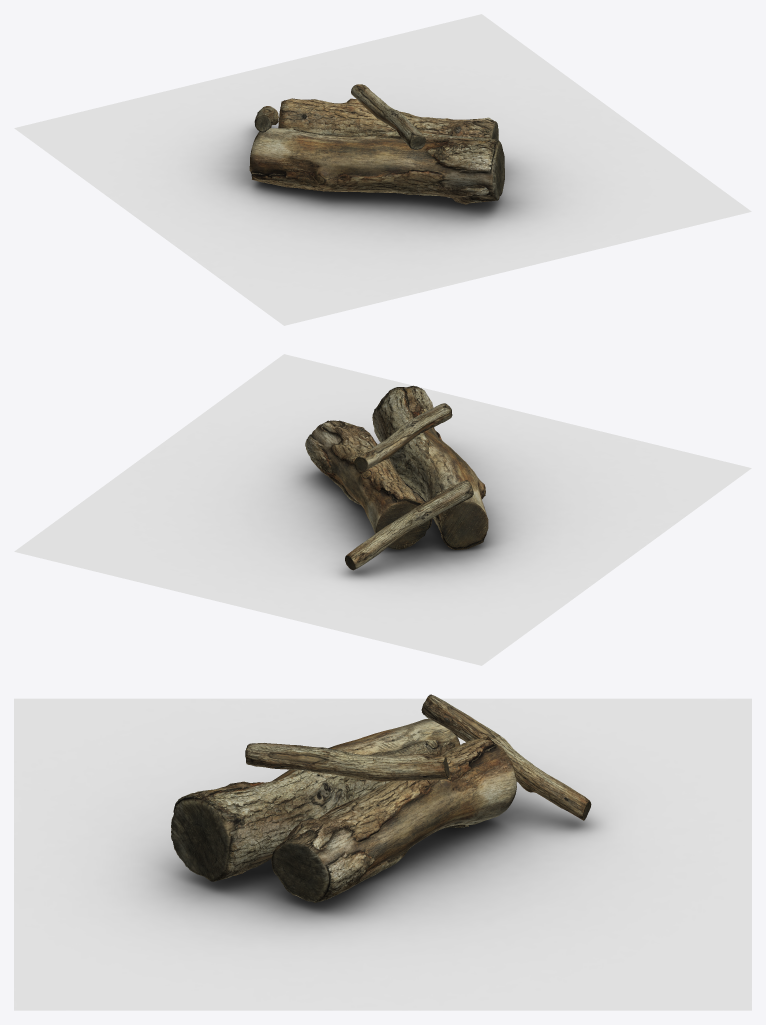
Rendered from logs.glb.
3 views of the same model, one above another, from view 1: azimuth 30°, elevation 25°; view 2: azimuth 150°, elevation 25°; view 3: azimuth 270°, elevation 25° (orthographic). The views are drawn at different scales.
Parts seen in each view (by area): view 1: Plane.001, log_big_right, log_big_left, log_small_1; view 2: Plane.001, log_big_right, log_big_left, log_small_2, log_small_1; view 3: Plane.001, log_big_left, log_big_right, log_small_1, log_small_2.
Boxes of the visible parts, x1,y1,x2,y2 form: Plane.001: [14, 14, 751, 325]; log_big_right: [249, 127, 504, 204]; log_big_left: [278, 98, 498, 139]; log_small_1: [351, 84, 426, 149]; Plane.001: [14, 354, 751, 665]; log_big_right: [372, 385, 488, 549]; log_big_left: [305, 420, 432, 549]; log_small_2: [345, 480, 473, 570]; log_small_1: [354, 403, 452, 471]; Plane.001: [14, 698, 751, 1010]; log_big_left: [271, 737, 516, 902]; log_big_right: [171, 718, 460, 881]; log_small_1: [245, 743, 449, 781]; log_small_2: [421, 694, 591, 820].
Size of the model in its own units: 0.2067 by 0.0316 by 0.2067.
Materials: 2 (2 with a texture image).
